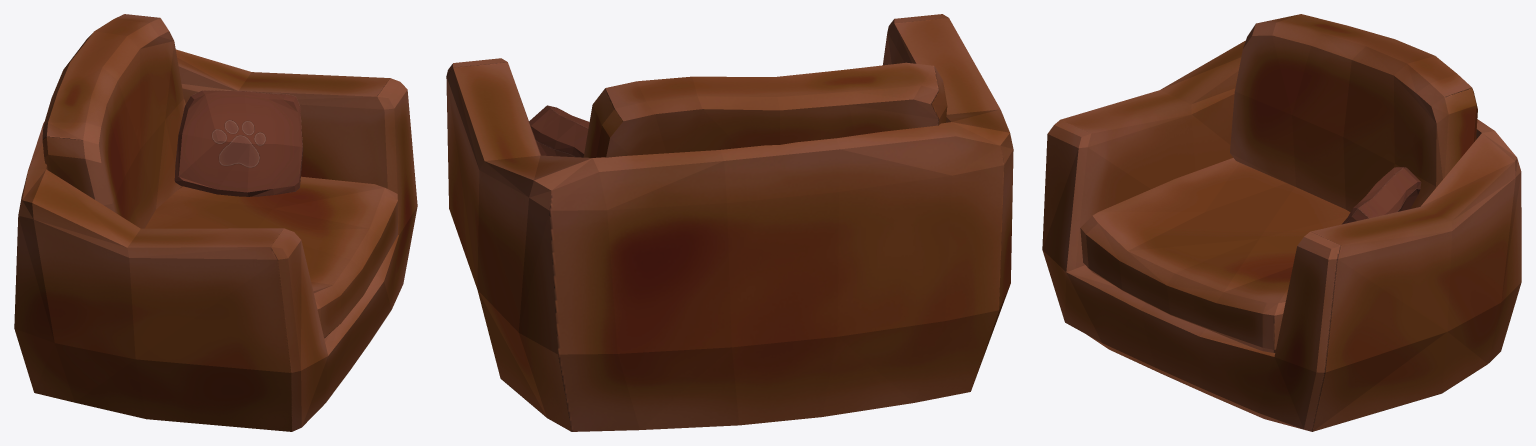
The model's file is Chair asset.FBX.
3 renders of one model, left to right at view 1: azimuth 30°, elevation 25°; view 2: azimuth 150°, elevation 25°; view 3: azimuth 270°, elevation 25°, orthographic. The views are drawn at different scales.
Visible parts, largest first — view 1: chair, chair pillow right; view 2: chair, chair pillow right; view 3: chair, chair pillow right.
Part boxes in pixels (x1,y1,x2,y2): chair: (14,14,417,431); chair pillow right: (174,90,303,196); chair: (446,14,1013,431); chair pillow right: (529,105,589,157); chair: (1042,14,1521,431); chair pillow right: (1342,167,1421,224).
Bounding box in the file's own units: 141 × 88.36 × 140.
Materials: 2 (2 with a texture image).
